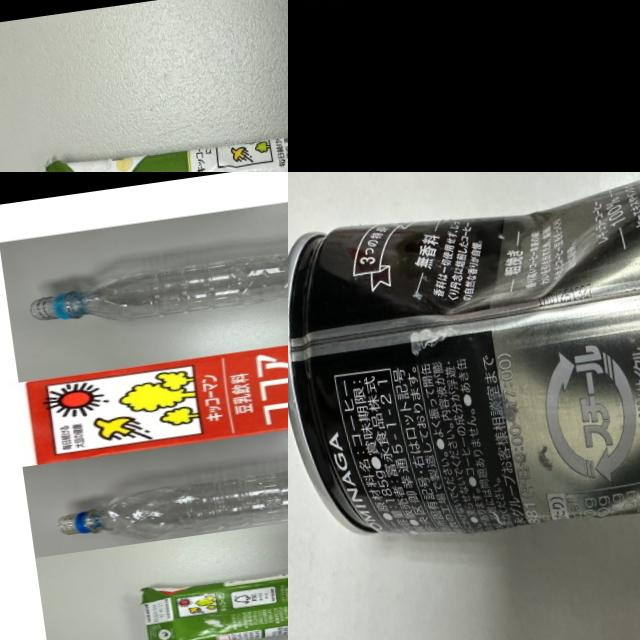Aluminium Foil: (15, 316, 288, 470), (42, 96, 288, 172), (133, 549, 288, 640)
Can: (288, 172, 640, 553)
Transparent Plastic Bottle: (23, 231, 288, 339), (49, 445, 288, 555)
